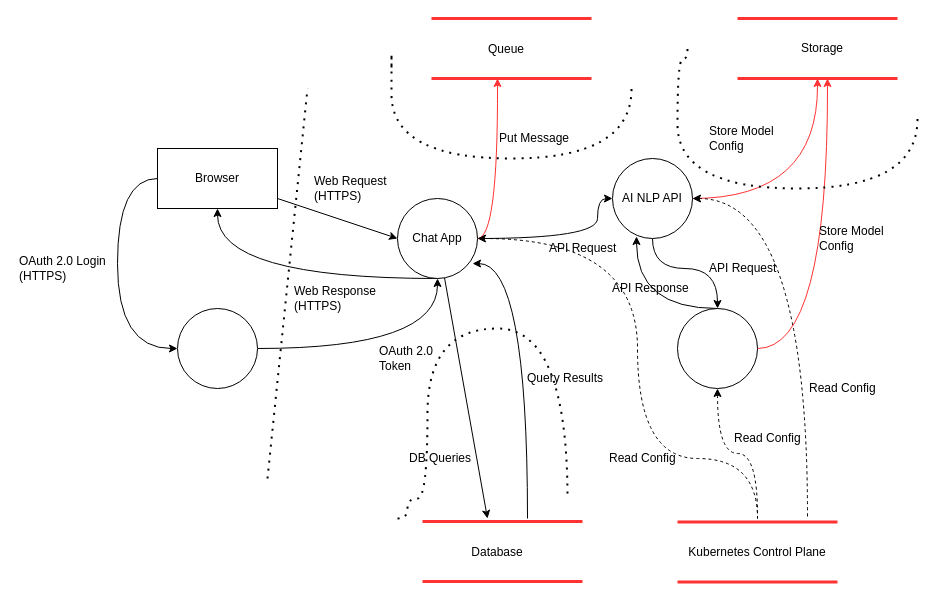
Some shapes in this 935 by 602 pixel diagram are drawn without their labels. Each missing label, with the centre of its shape:
"AI Knowledge Engine API" goes at pixel 717 348.
"Apple ID OAuth 2.0" goes at pixel 217 348.
